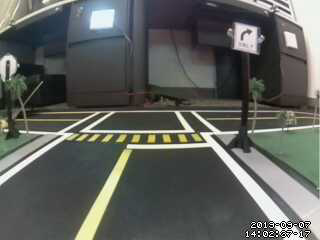Right_only_sign: (226, 22, 263, 58)
